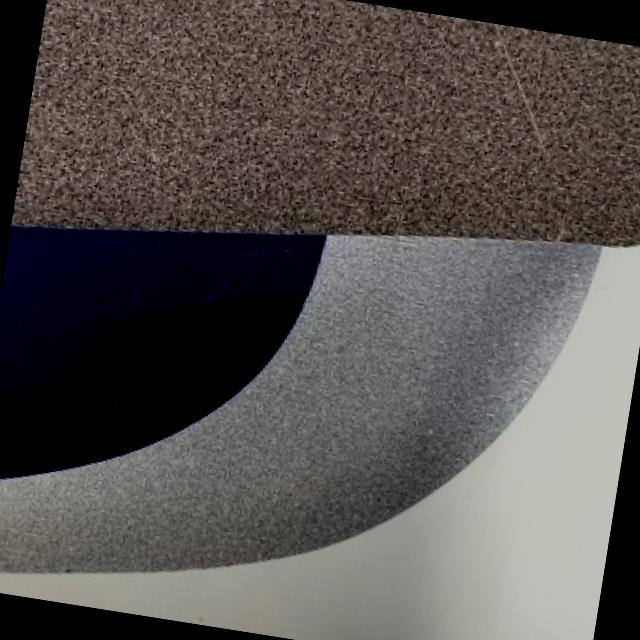healthy: (0, 235, 597, 567)
